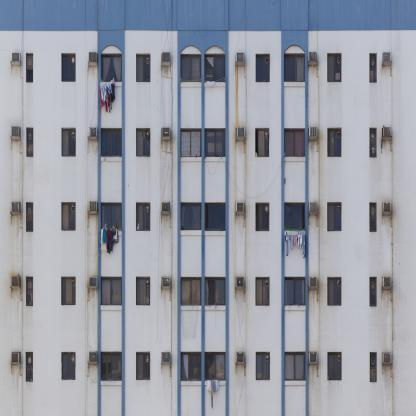Building Outline: (0, 0, 416, 416)
Facade: (0, 0, 416, 416)
Floor: (0, 337, 416, 410), (0, 261, 416, 332), (0, 185, 416, 255), (0, 110, 416, 180)
Floor Slab: (0, 104, 416, 110), (0, 410, 416, 415), (0, 180, 416, 185), (0, 255, 416, 260), (0, 332, 416, 337)
Pillar: (177, 30, 229, 416), (281, 30, 308, 416), (98, 30, 125, 416)
Top Floor: (0, 30, 416, 104)
Window: (101, 352, 122, 381), (285, 352, 306, 381), (181, 352, 202, 381), (101, 53, 122, 82), (284, 53, 305, 82), (101, 128, 122, 157), (284, 128, 305, 157), (181, 128, 202, 157), (101, 202, 122, 231), (181, 202, 202, 231), (205, 352, 226, 381), (205, 128, 226, 157), (181, 54, 202, 82), (285, 203, 306, 231), (101, 277, 122, 305), (181, 277, 202, 305), (205, 54, 226, 82), (205, 203, 226, 231), (285, 277, 305, 305), (205, 277, 225, 305), (61, 352, 76, 381), (61, 277, 76, 306), (62, 128, 76, 157), (62, 203, 76, 232), (62, 53, 76, 82), (328, 53, 342, 82), (328, 128, 342, 157), (327, 202, 341, 231), (137, 53, 151, 82), (136, 202, 150, 231), (256, 53, 270, 82), (256, 202, 270, 231), (328, 352, 342, 380), (328, 277, 342, 305), (136, 352, 150, 380), (137, 128, 151, 156), (136, 277, 150, 305), (256, 352, 270, 380), (256, 128, 270, 156), (256, 277, 270, 305), (26, 127, 33, 157), (26, 202, 33, 232), (26, 276, 33, 306), (26, 352, 33, 381), (26, 53, 33, 82), (370, 353, 377, 382), (370, 202, 376, 232), (370, 53, 376, 82), (370, 277, 376, 306), (370, 128, 376, 157)
